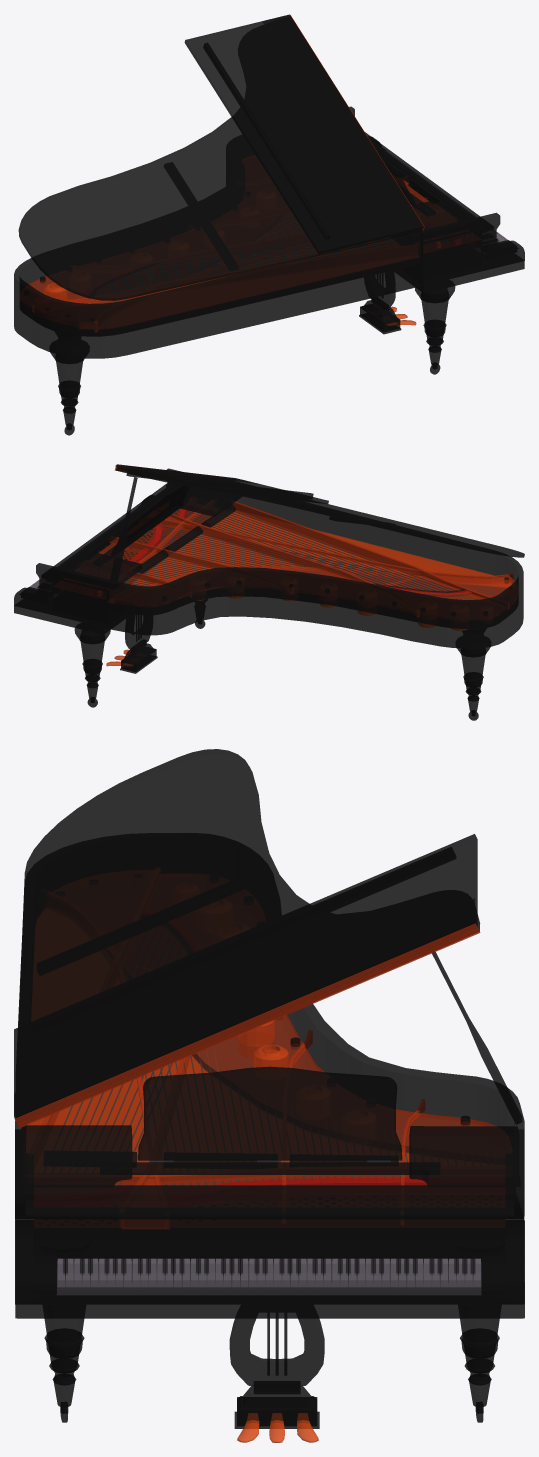
The model's file is piano.dae.
3 renders of one model, top to bottom at view 1: azimuth 30°, elevation 25°; view 2: azimuth 150°, elevation 25°; view 3: azimuth 270°, elevation 25°, orthographic. The views are drawn at different scales.
Visible parts, largest first — view 1: Black, Orange, Brass; view 2: Black, Orange, Brass, Steel, Red; view 3: Black, Orange, White, Brass, Steel, Red.
Boxes of the visible parts, x1=… form: Black: x1=14, y1=14, x2=524, y2=435; Orange: x1=29, y1=15, x2=441, y2=332; Brass: x1=44, y1=283, x2=416, y2=325; Black: x1=14, y1=464, x2=524, y2=720; Orange: x1=97, y1=465, x2=516, y2=618; Brass: x1=106, y1=511, x2=505, y2=666; Steel: x1=124, y1=509, x2=457, y2=594; Red: x1=89, y1=508, x2=470, y2=596; Black: x1=14, y1=749, x2=524, y2=1428; Orange: x1=14, y1=923, x2=496, y2=1229; White: x1=57, y1=1258, x2=481, y2=1294; Brass: x1=27, y1=1020, x2=409, y2=1442; Steel: x1=63, y1=1046, x2=419, y2=1185; Red: x1=127, y1=1177, x2=427, y2=1185.
Size of the model in its own units: 258 by 146 by 151.
